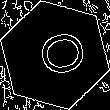O_W: (25, 27, 85, 83)
